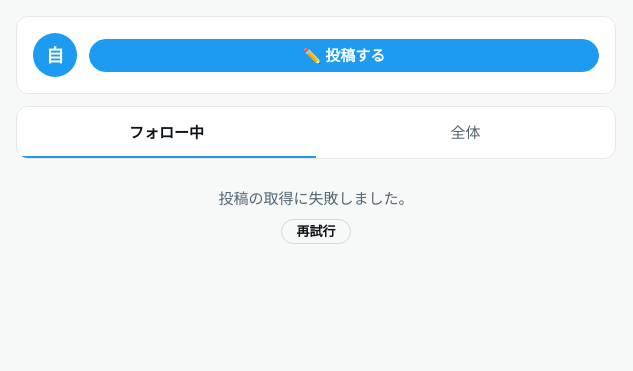
Scenario: HomePage › 取得失敗後に再試行 → 成功すればエラーが消え投稿が表示される
The width and height of the screenshot is (633, 371).
expect the text "投稿の取得に失敗しました。" is shown: met, box top-left (218, 188), bottom-right (414, 210)
Click the button "再試行".
click(316, 231)  # box top-left (282, 218), bottom-right (350, 244)
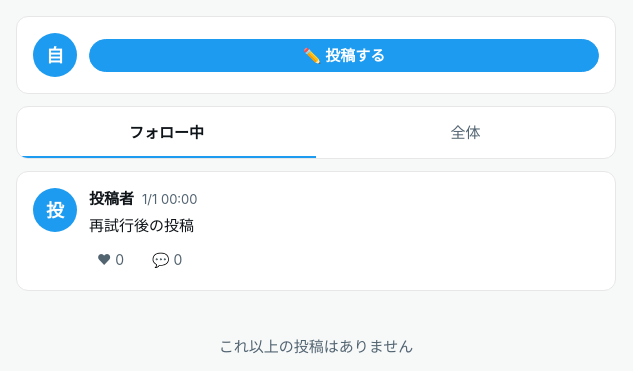
expect the text "投稿の取得に失敗しました。" is gone: met
expect the text "再試行後の投稿" is shown: met, box top-left (89, 216), bottom-right (194, 234)
